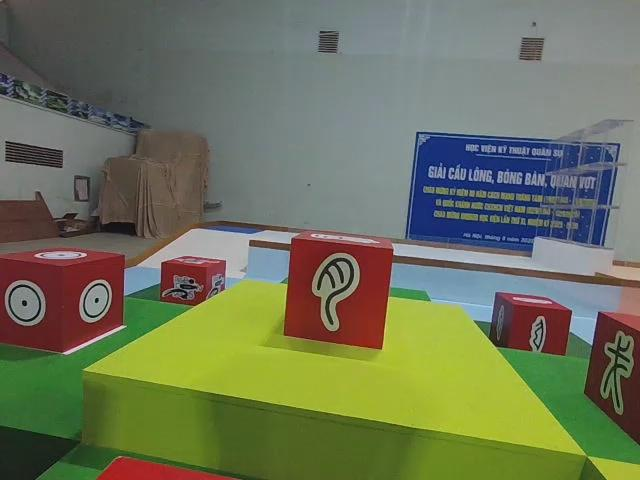R1: (161, 256, 224, 313)
R2 Fake: (282, 232, 393, 367), (584, 309, 640, 446)
R2 Real: (0, 249, 123, 356), (488, 293, 573, 358)
